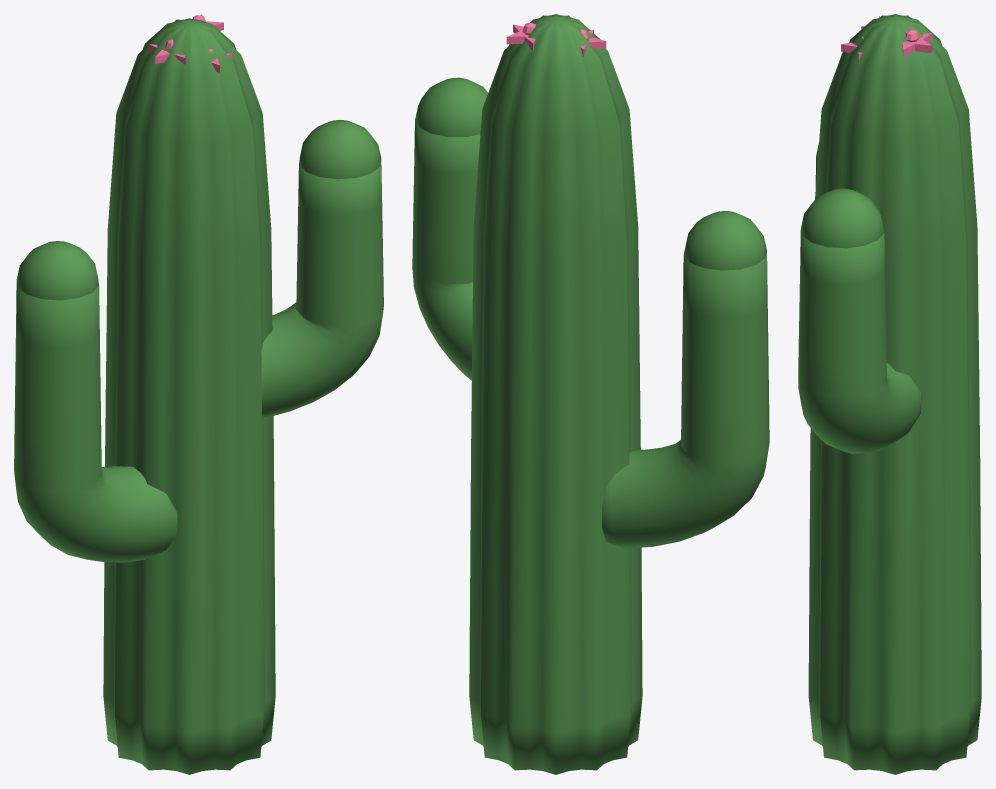
File: Cactus.obj
3 renders of one model, left to right at view 1: azimuth 30°, elevation 25°; view 2: azimuth 150°, elevation 25°; view 3: azimuth 270°, elevation 25°, orthographic.
Visible parts, largest first — view 1: Cactus, Flower; view 2: Cactus, Flower; view 3: Cactus, Flower.
Part boxes in pixels (left/top/right/bottom): Cactus: left=14, top=18, right=383, bottom=774; Flower: left=149, top=14, right=232, bottom=72; Cactus: left=412, top=14, right=769, bottom=774; Flower: left=506, top=22, right=606, bottom=56; Cactus: left=798, top=14, right=981, bottom=774; Flower: left=841, top=16, right=932, bottom=60.
Size of the model in its own units: 5.03 by 9.85 by 2.27.
